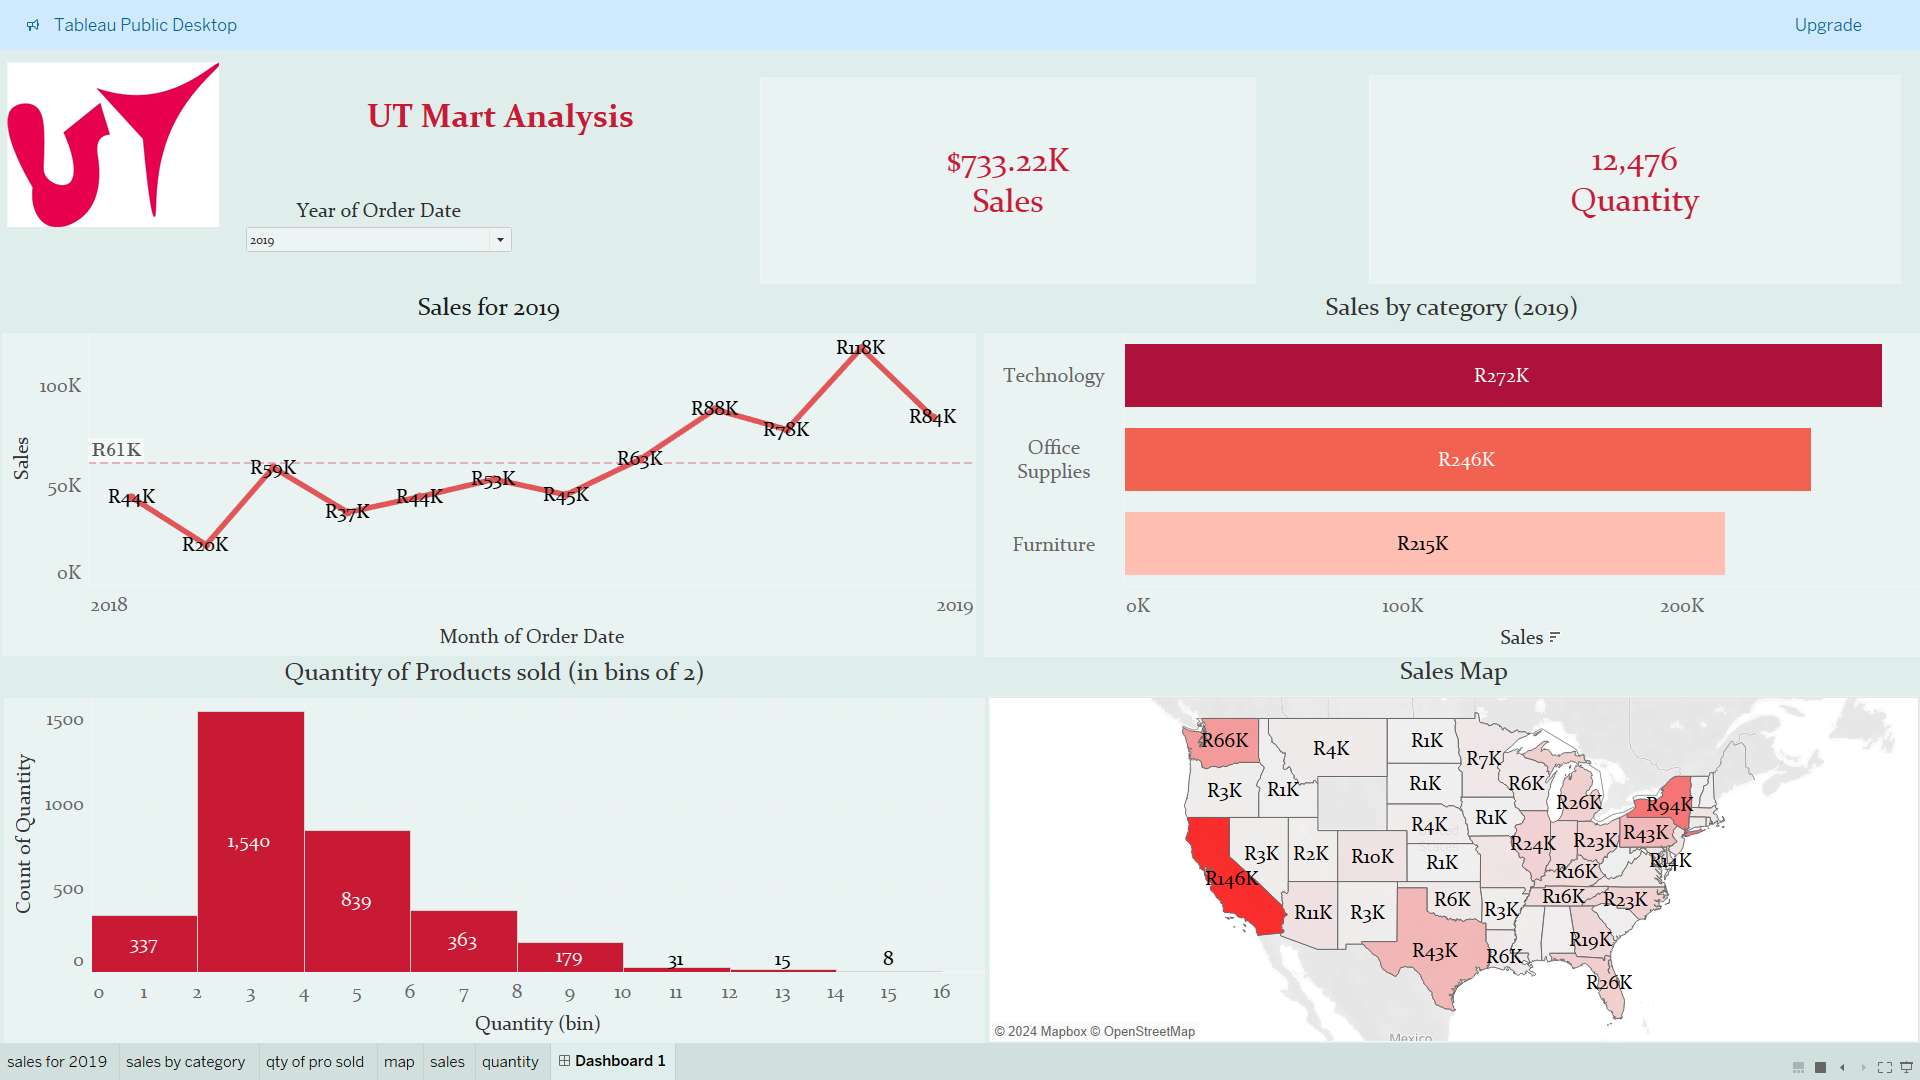

The dashboard page shown, as its layout file describes it:
{"tool":"tableau","page":{"name":"analysis","canvas":[1000,1000],"units":"permille","ordinal":0},"visuals":[{"type":"worksheet","title":"quantity","mark":"Automatic","box":[713,10,277.1,226]},{"type":"image","param":"C:/Users/dhwan/OneDrive/Documents/BSE classwork/Tableau-Projects-master/Tableau-","box":[3.5,12.5,110.7,182.3]},{"type":"worksheet","title":"sales","mark":"Automatic","box":[396,12.5,258.4,223.5]},{"type":"text","box":[150.6,22.5,220.3,88.6]},{"type":"filter","title":"sales for 2019","param":"[federated.07rosx71nxf436197659k12y095f].[yr:Order Date:ok]","box":[126.5,148.6,141.8,86.1]},{"type":"worksheet","title":"sales for 2019","mark":"Automatic","rows":["Sales"],"cols":["Order Date"],"box":[1.2,238.5,507.3,372]},{"type":"worksheet","title":"sales by category","mark":"Automatic","rows":["Category"],"cols":["Sales"],"box":[512.6,238.5,487.4,373.3]},{"type":"worksheet","title":"map","mark":"Automatic","box":[514.9,605.5,484.5,393.3]},{"type":"worksheet","title":"qty of pro sold","mark":"Automatic","rows":["Quantity"],"cols":["Quantity (bin)"],"box":[2.3,606.7,510.8,393.3]}]}

Visuals, with their boxes on the dashboard's canvas, which has no fixed pixel size, in thousandths of its width and height (x1, y1, x2, y2). These are canvas units, not pixel positions in the 1920x1080 screenshot, which may show the page scaled, cropped or inside an application window:
"quantity" worksheet: Rect(713, 10, 990, 236)
image: Rect(4, 12, 114, 195)
"sales" worksheet: Rect(396, 12, 654, 236)
text: Rect(151, 22, 371, 111)
"sales for 2019" filter: Rect(126, 149, 268, 235)
"sales for 2019" worksheet: Rect(1, 238, 508, 610)
"sales by category" worksheet: Rect(513, 238, 1000, 612)
"map" worksheet: Rect(515, 606, 999, 999)
"qty of pro sold" worksheet: Rect(2, 607, 513, 1000)
